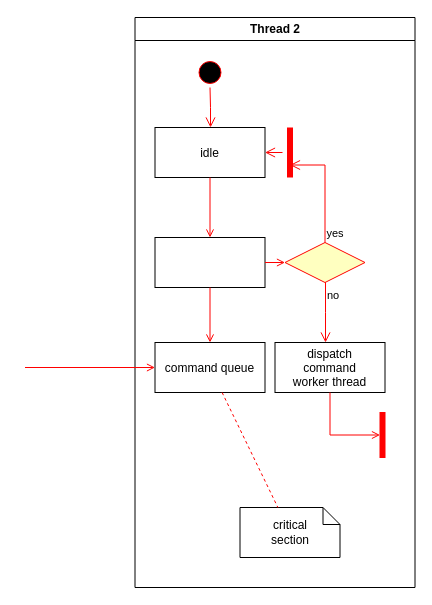
This 432x605 diagram has some shape labels left out. The shapes that lost their labels are listed below. From the top down, each one's centre as x and y in pixels, then its label:
At [209,262]: "check for new commands".
At [324,262]: "queue empty".
